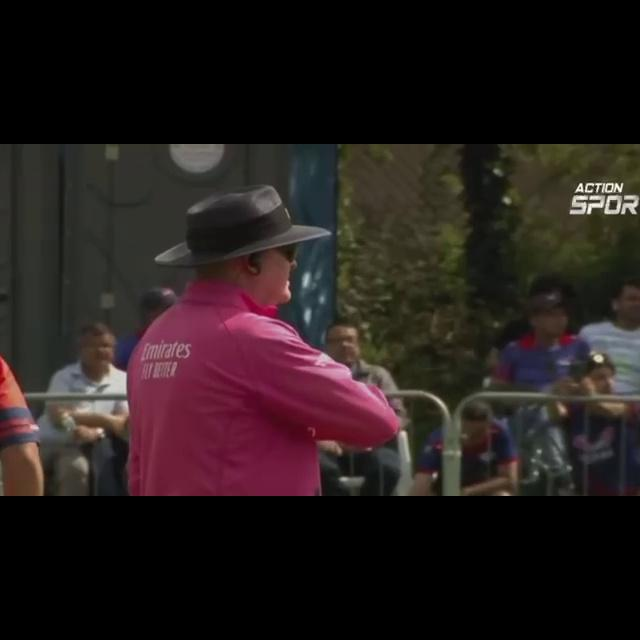umpire: (118, 179, 411, 496)
